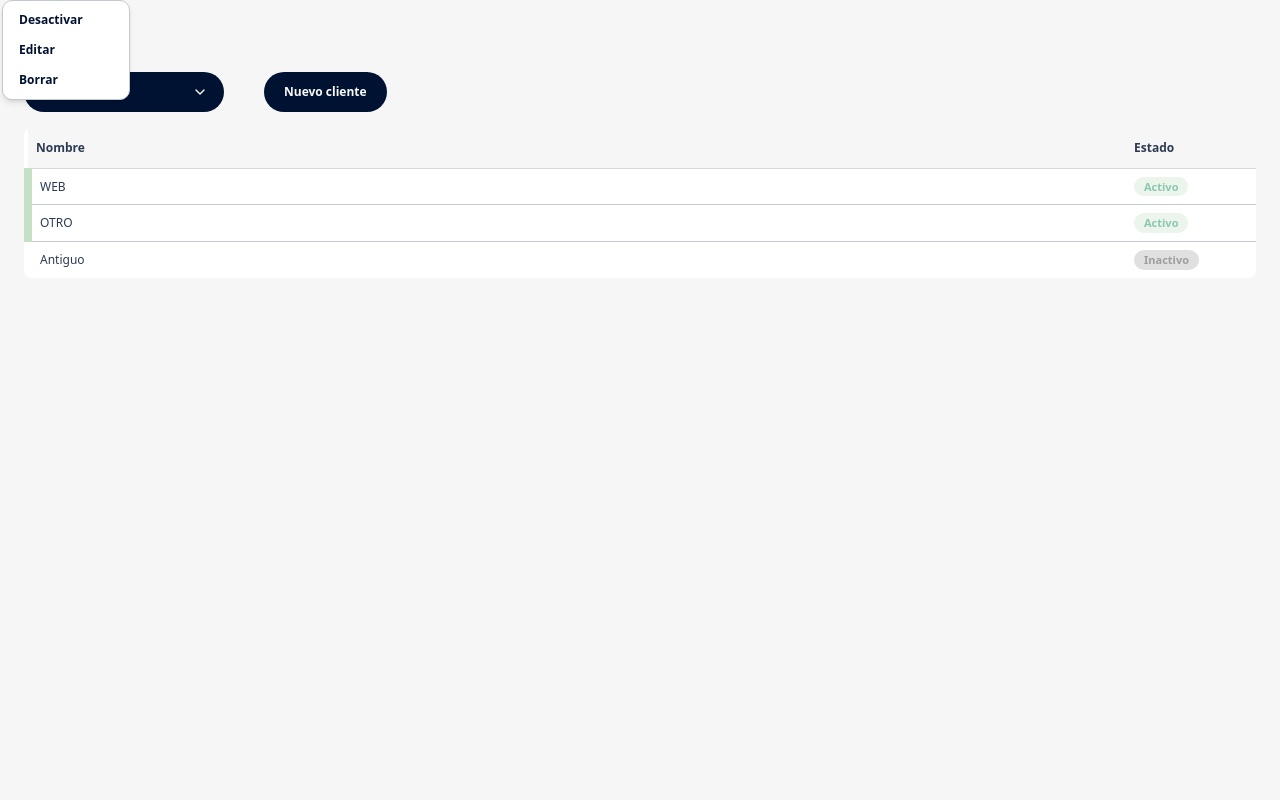
Test case: ClientesPage › un fallo de conexión al editar activa el banner y avisa con el diálogo global
The width and height of the screenshot is (1280, 800).
Expected: the text "OTRO" is shown, [28,205,1126,241]
Click the menu item "Editar". click: x=37, y=50
box: [19,41,55,58]
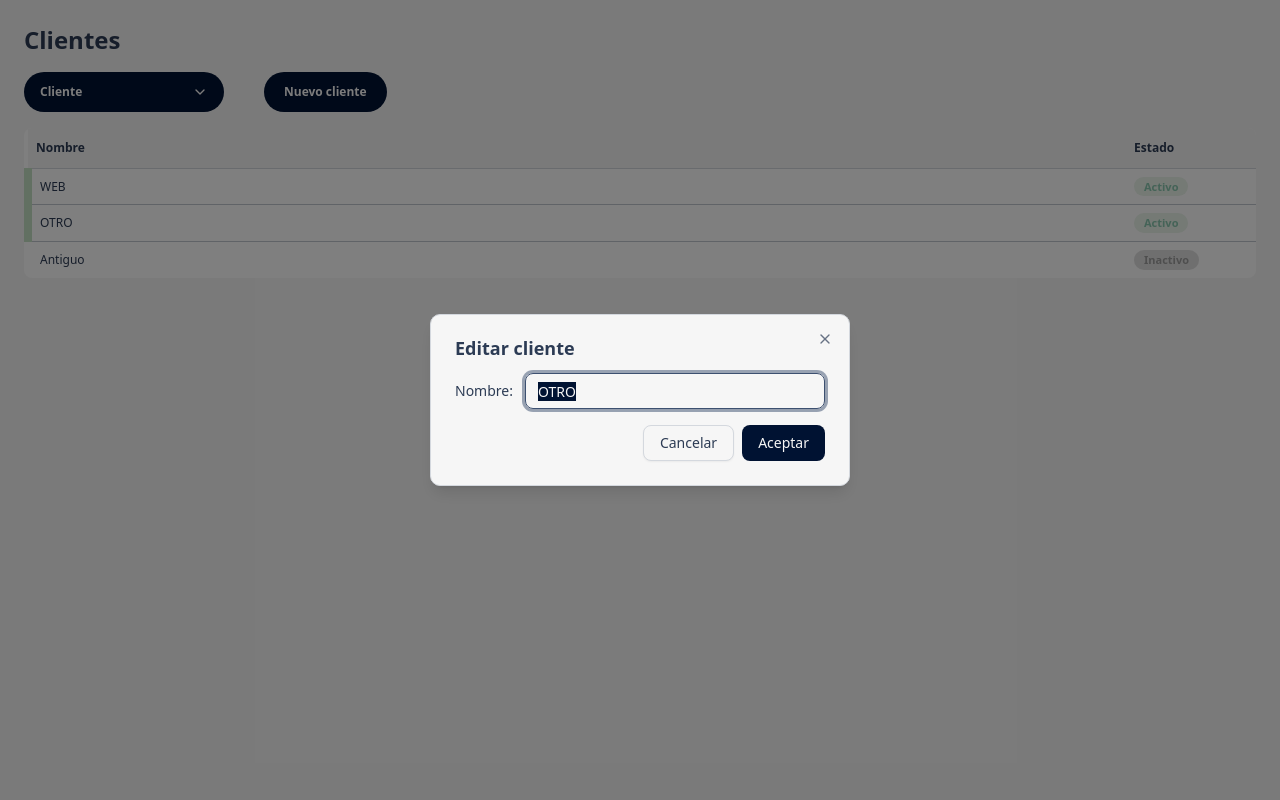
Replace the text in the field labelled "Nombre:" with "Otros". click: x=675, y=391
box: [525,373,825,409]
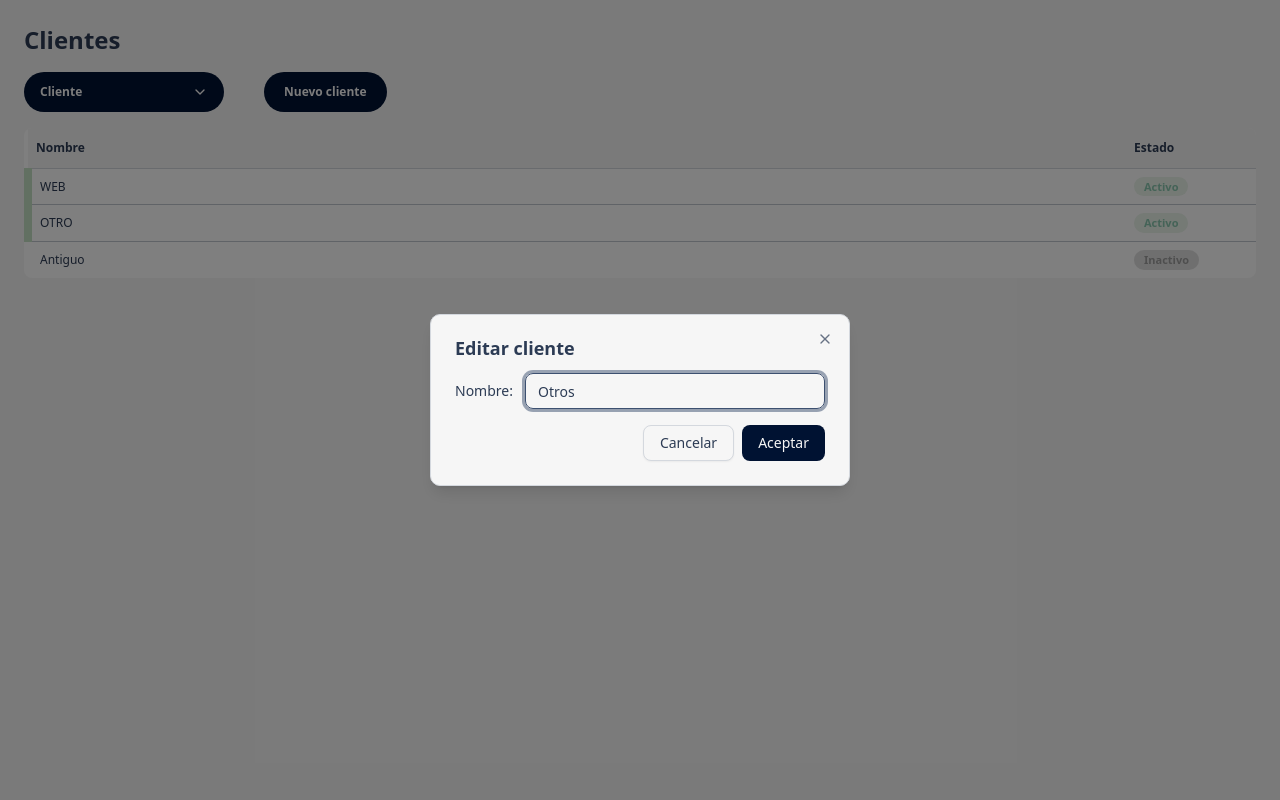
Click the button "Aceptar". click: x=784, y=443
box: [742,425,825,461]
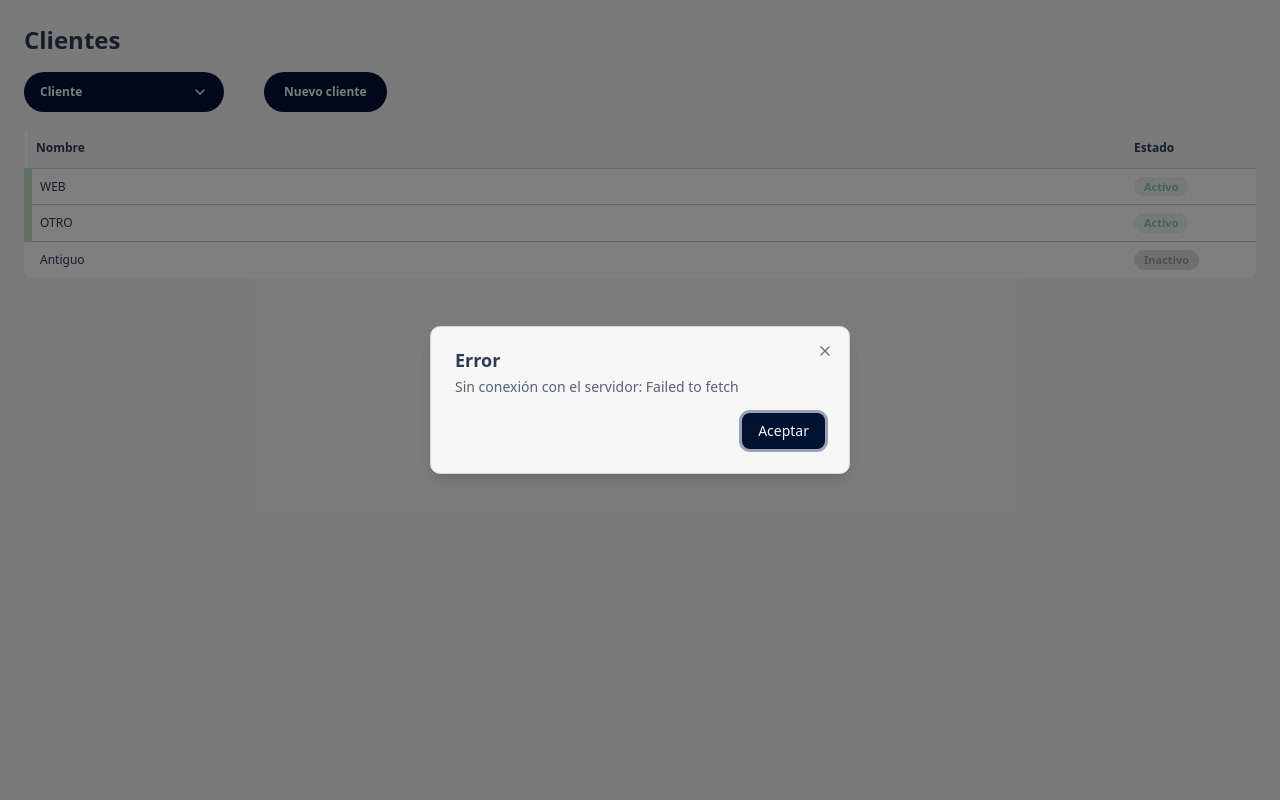
Expected: the text "Sin conexión con el servidor: Failed to fetch" is shown, [455,377,739,396]
